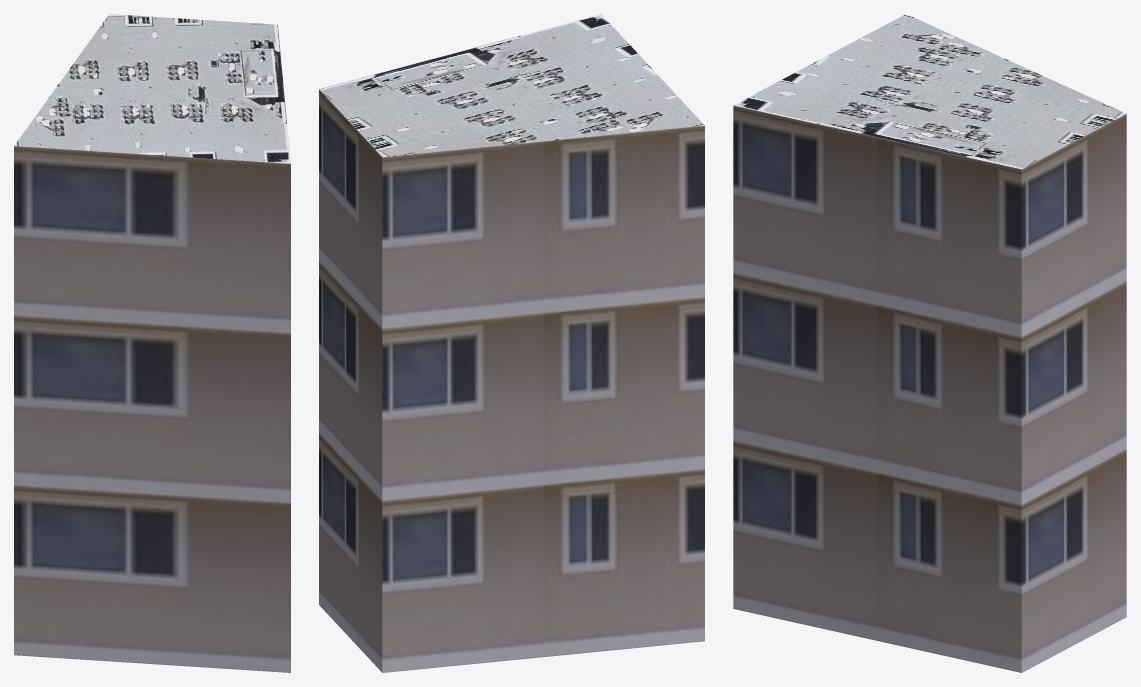
Rendered from ResTex__2185.fbx.
3 views of the same model, side by side, from view 1: azimuth 30°, elevation 25°; view 2: azimuth 150°, elevation 25°; view 3: azimuth 270°, elevation 25° (orthographic). The views are drawn at different scales.
Parts seen in each view (by area): view 1: CityEngineMaterial_21_m, CityEngineMaterial_4_m; view 2: CityEngineMaterial_21_m, CityEngineMaterial_4_m; view 3: CityEngineMaterial_21_m, CityEngineMaterial_4_m.
Part boxes in pixels (box(x1,y1,x2,y2)): CityEngineMaterial_21_m: box(14, 146, 290, 672); CityEngineMaterial_4_m: box(14, 14, 290, 163); CityEngineMaterial_21_m: box(319, 89, 704, 672); CityEngineMaterial_4_m: box(319, 14, 704, 157); CityEngineMaterial_21_m: box(733, 105, 1126, 672); CityEngineMaterial_4_m: box(733, 14, 1126, 169).
Bounding box in the file's own units: 5.96 × 9 × 6.37.
Materials: 2 (2 with a texture image).
